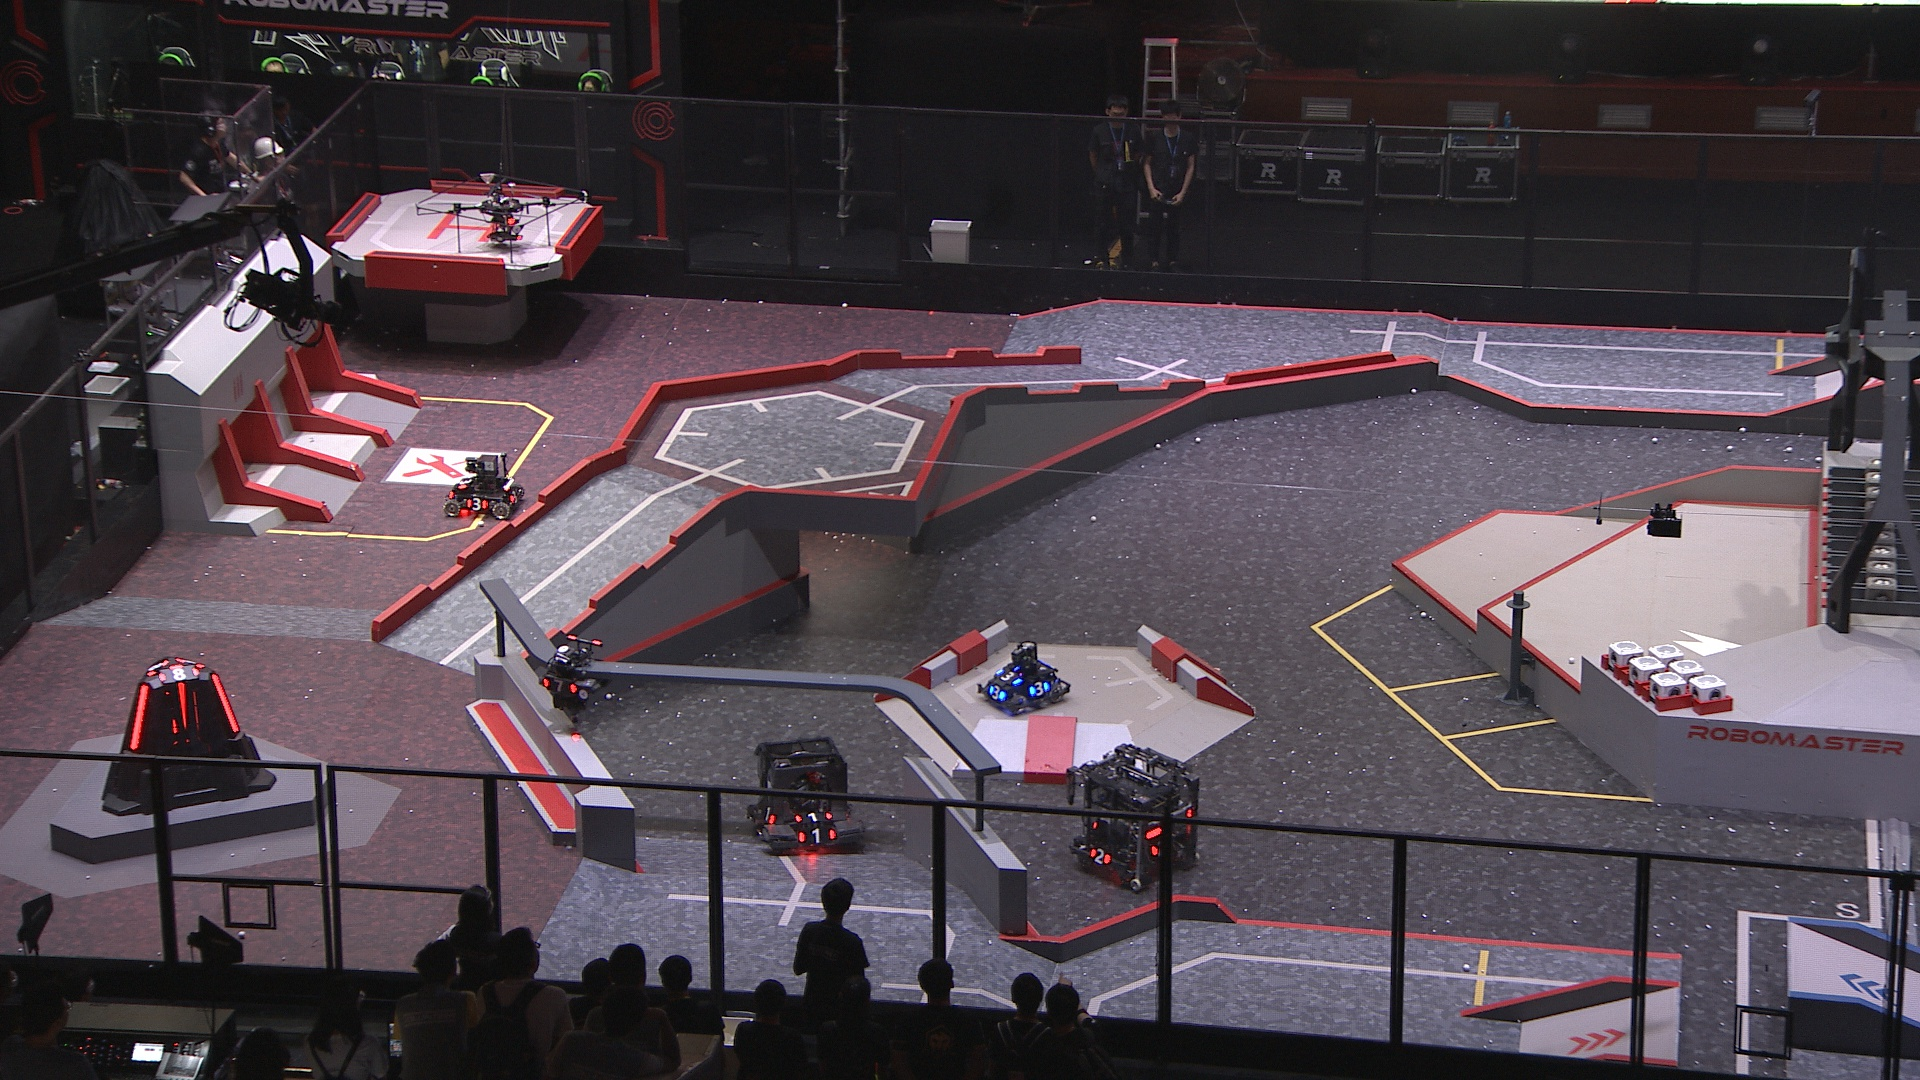armor: (208, 674, 239, 736), (128, 683, 150, 752), (538, 674, 574, 698), (173, 680, 190, 727), (799, 827, 836, 845), (161, 665, 196, 683), (794, 808, 832, 823), (996, 666, 1019, 684), (1091, 845, 1112, 864), (986, 684, 1007, 703), (1030, 679, 1050, 698), (760, 800, 774, 825), (465, 496, 487, 512), (148, 659, 167, 675), (458, 476, 473, 493), (510, 489, 522, 504)
base: (100, 655, 273, 815)
car: (1064, 745, 1204, 889), (746, 735, 866, 853), (977, 638, 1069, 713), (443, 451, 526, 524)
watcher: (531, 633, 604, 725)
